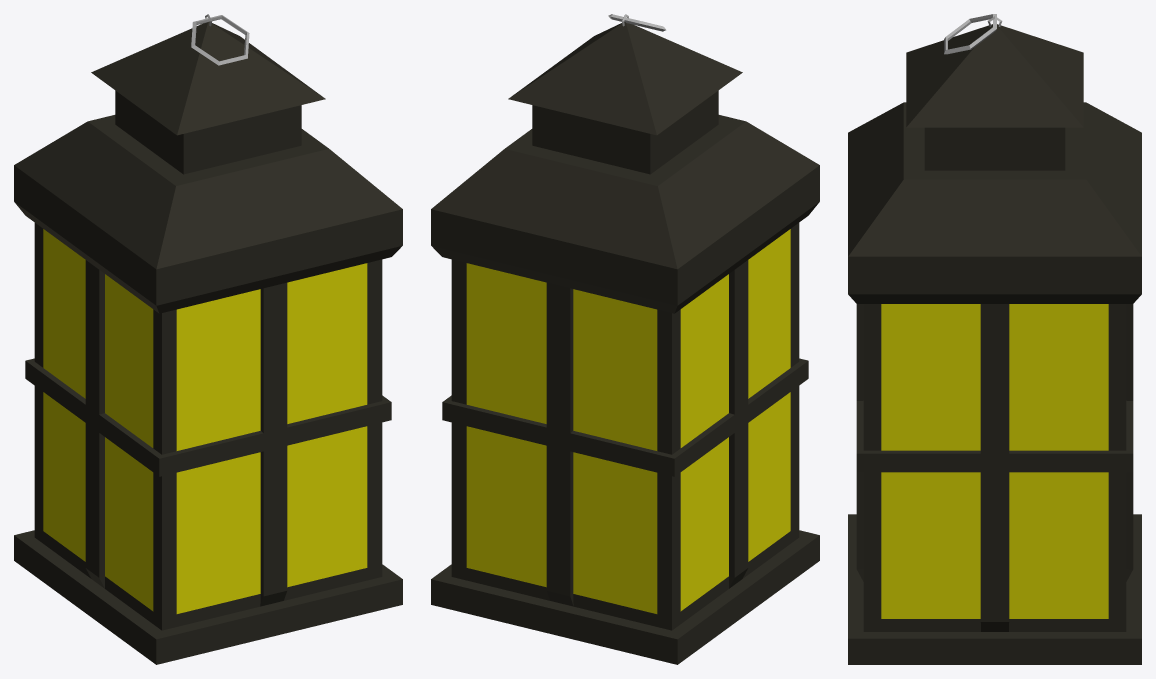
The model's file is Lantern.fbx.
The picture shows the model from 3 angles, left to right: view 1: azimuth 30°, elevation 25°; view 2: azimuth 150°, elevation 25°; view 3: azimuth 270°, elevation 25°; orthographic projection. The views are drawn at different scales.
Parts seen in each view (by area): view 1: Lantern; view 2: Lantern; view 3: Lantern.
Part boxes in pixels (x1,y1,x2,y2): Lantern: [14, 14, 402, 664]; Lantern: [431, 14, 819, 664]; Lantern: [848, 14, 1141, 664].
Size of the model in its own units: 31.06 by 68.47 by 31.06.
